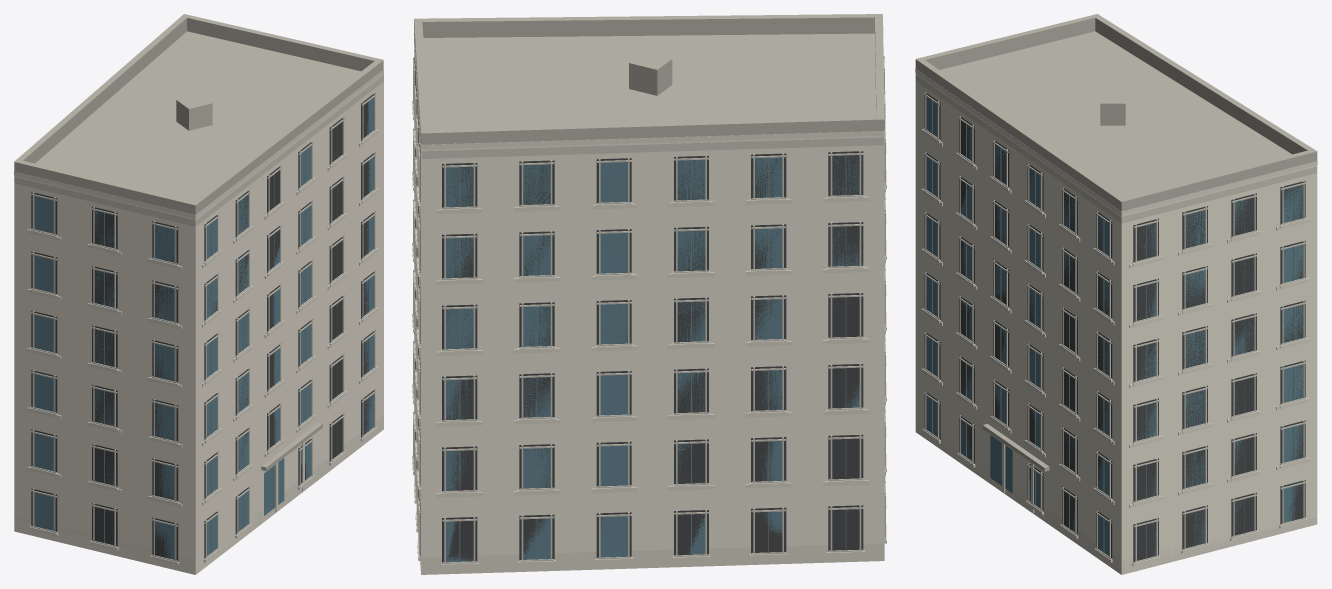
Rendered from cop_hotel_classico_02__way_322770915.fbx.
3 views of the same model, side by side, from view 1: azimuth 30°, elevation 25°; view 2: azimuth 150°, elevation 25°; view 3: azimuth 270°, elevation 25° (orthographic). The views are drawn at different scales.
Visible parts, largest first — view 1: cop_hotel_classico_02__way_322770915_wall, cop_hotel_classico_02__way_322770915_roof, cop_hotel_classico_02__way_322770915_glass, cop_hotel_classico_02__way_322770915_shadow, cop_hotel_classico_02__way_322770915_trim, cop_hotel_classico_02__way_322770915_stone, cop_hotel_classico_02__way_322770915_metal; view 2: cop_hotel_classico_02__way_322770915_wall, cop_hotel_classico_02__way_322770915_roof, cop_hotel_classico_02__way_322770915_shadow, cop_hotel_classico_02__way_322770915_glass, cop_hotel_classico_02__way_322770915_trim, cop_hotel_classico_02__way_322770915_stone, cop_hotel_classico_02__way_322770915_metal; view 3: cop_hotel_classico_02__way_322770915_wall, cop_hotel_classico_02__way_322770915_roof, cop_hotel_classico_02__way_322770915_shadow, cop_hotel_classico_02__way_322770915_glass, cop_hotel_classico_02__way_322770915_trim, cop_hotel_classico_02__way_322770915_stone, cop_hotel_classico_02__way_322770915_metal.
Boxes of the visible parts, bbox=[...] form: cop_hotel_classico_02__way_322770915_wall: bbox=[14, 73, 383, 574]; cop_hotel_classico_02__way_322770915_roof: bbox=[14, 14, 383, 471]; cop_hotel_classico_02__way_322770915_glass: bbox=[34, 97, 373, 559]; cop_hotel_classico_02__way_322770915_shadow: bbox=[31, 92, 375, 561]; cop_hotel_classico_02__way_322770915_trim: bbox=[14, 75, 383, 561]; cop_hotel_classico_02__way_322770915_stone: bbox=[14, 69, 383, 574]; cop_hotel_classico_02__way_322770915_metal: bbox=[43, 101, 368, 557]; cop_hotel_classico_02__way_322770915_wall: bbox=[414, 51, 884, 574]; cop_hotel_classico_02__way_322770915_roof: bbox=[414, 14, 884, 144]; cop_hotel_classico_02__way_322770915_shadow: bbox=[414, 58, 863, 563]; cop_hotel_classico_02__way_322770915_glass: bbox=[446, 155, 859, 562]; cop_hotel_classico_02__way_322770915_trim: bbox=[413, 38, 885, 563]; cop_hotel_classico_02__way_322770915_stone: bbox=[412, 31, 886, 574]; cop_hotel_classico_02__way_322770915_metal: bbox=[459, 155, 846, 562]; cop_hotel_classico_02__way_322770915_wall: bbox=[915, 73, 1317, 574]; cop_hotel_classico_02__way_322770915_roof: bbox=[915, 14, 1317, 471]; cop_hotel_classico_02__way_322770915_shadow: bbox=[924, 92, 1305, 562]; cop_hotel_classico_02__way_322770915_glass: bbox=[926, 96, 1302, 556]; cop_hotel_classico_02__way_322770915_trim: bbox=[915, 74, 1316, 563]; cop_hotel_classico_02__way_322770915_stone: bbox=[915, 69, 1317, 574]; cop_hotel_classico_02__way_322770915_metal: bbox=[931, 100, 1293, 558].
Size of the model in its own units: 2020 by 1912 by 1825.
